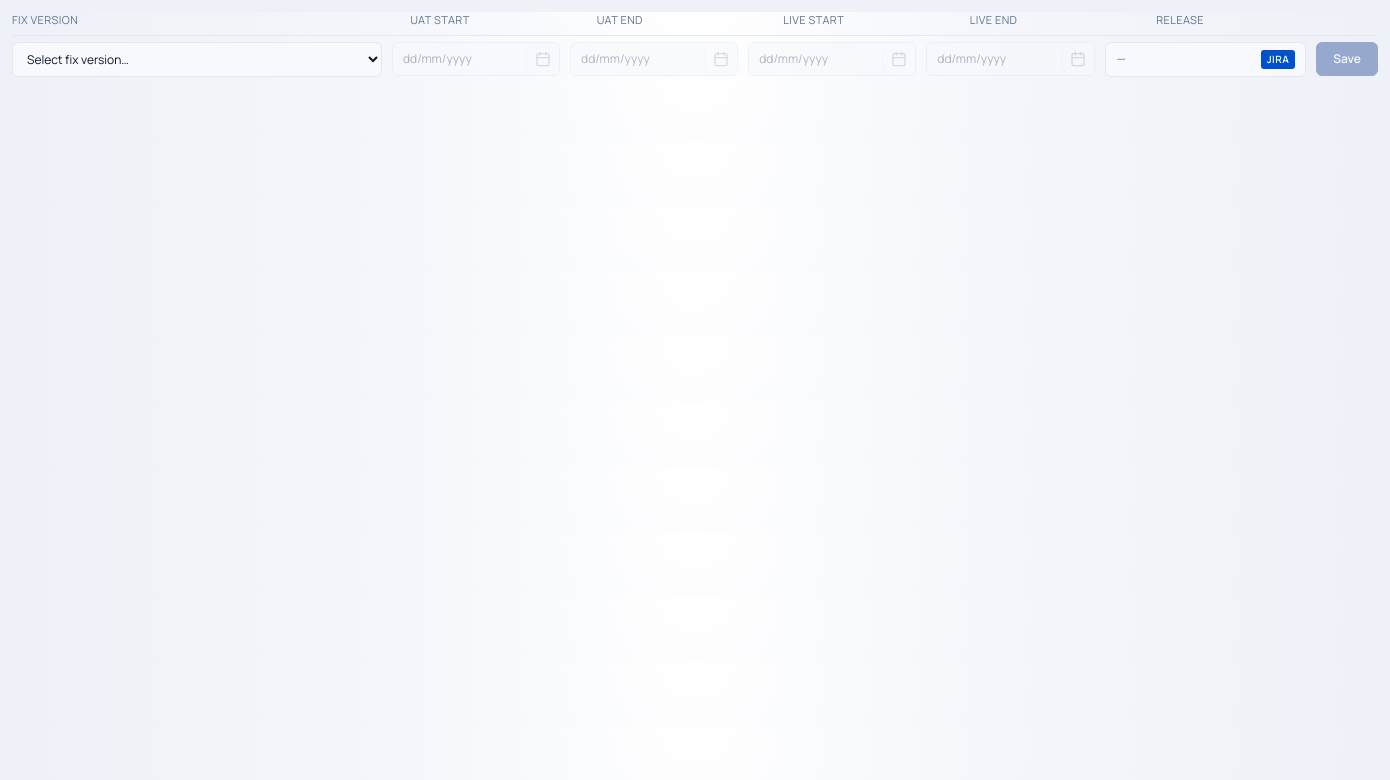
Test: FixVersionPicker › blocks Save and shows an error when Live start is after Live end
The image size is (1390, 780).
Select "Release Two" in the dropdown named "Fix version" at (197, 59), box [12,42,382,76]
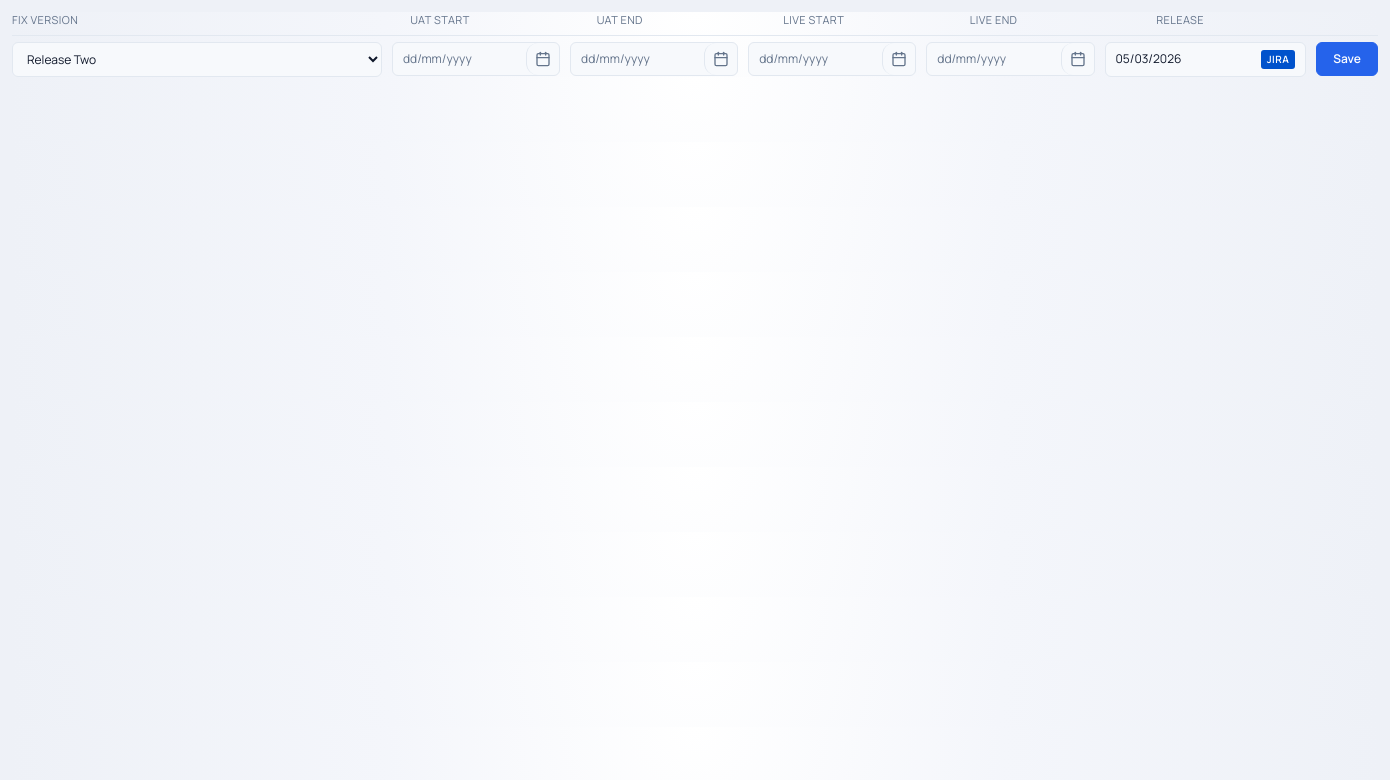
Type "20/03/2026" into the field named "Live start" at (816, 59), box [749,43,882,75]
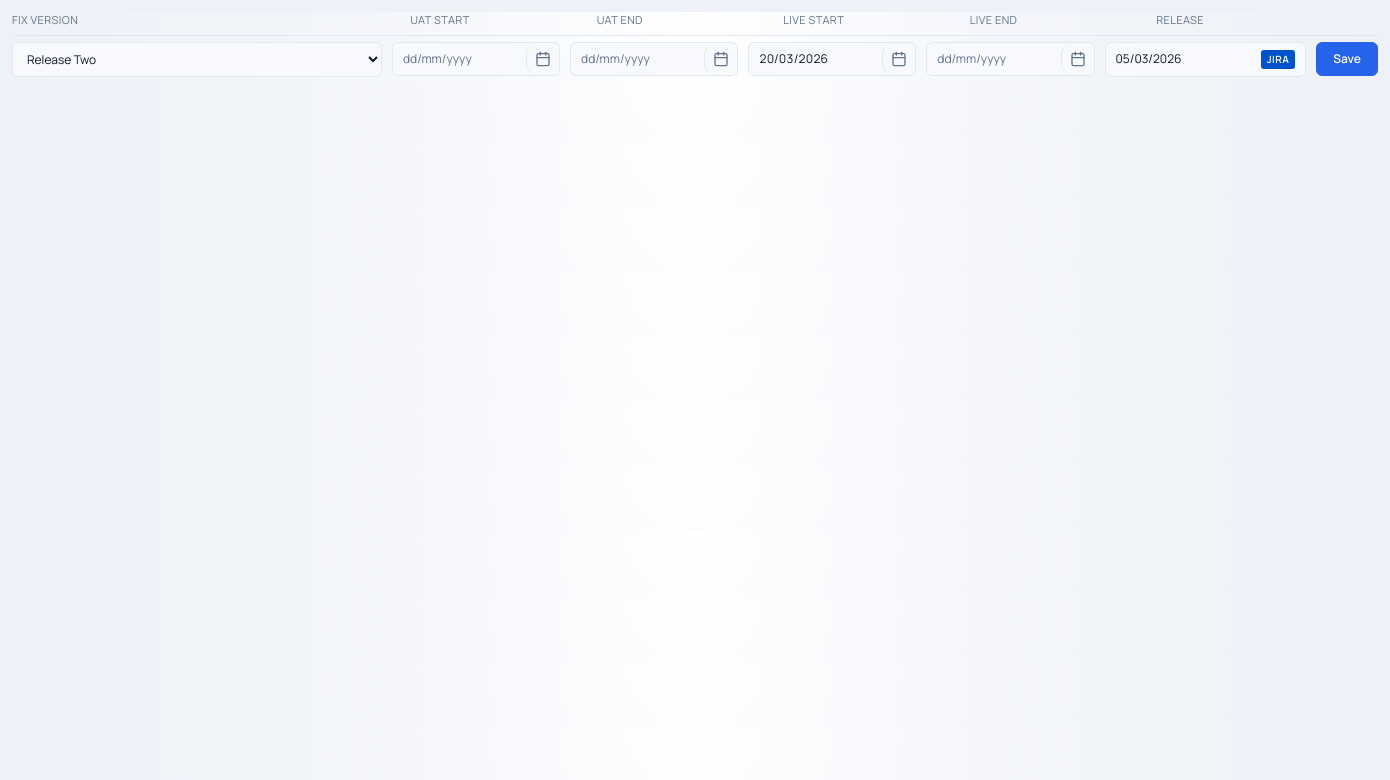
Type "10/03/2026" into the field named "Live end" at (994, 59), box [927,43,1061,75]
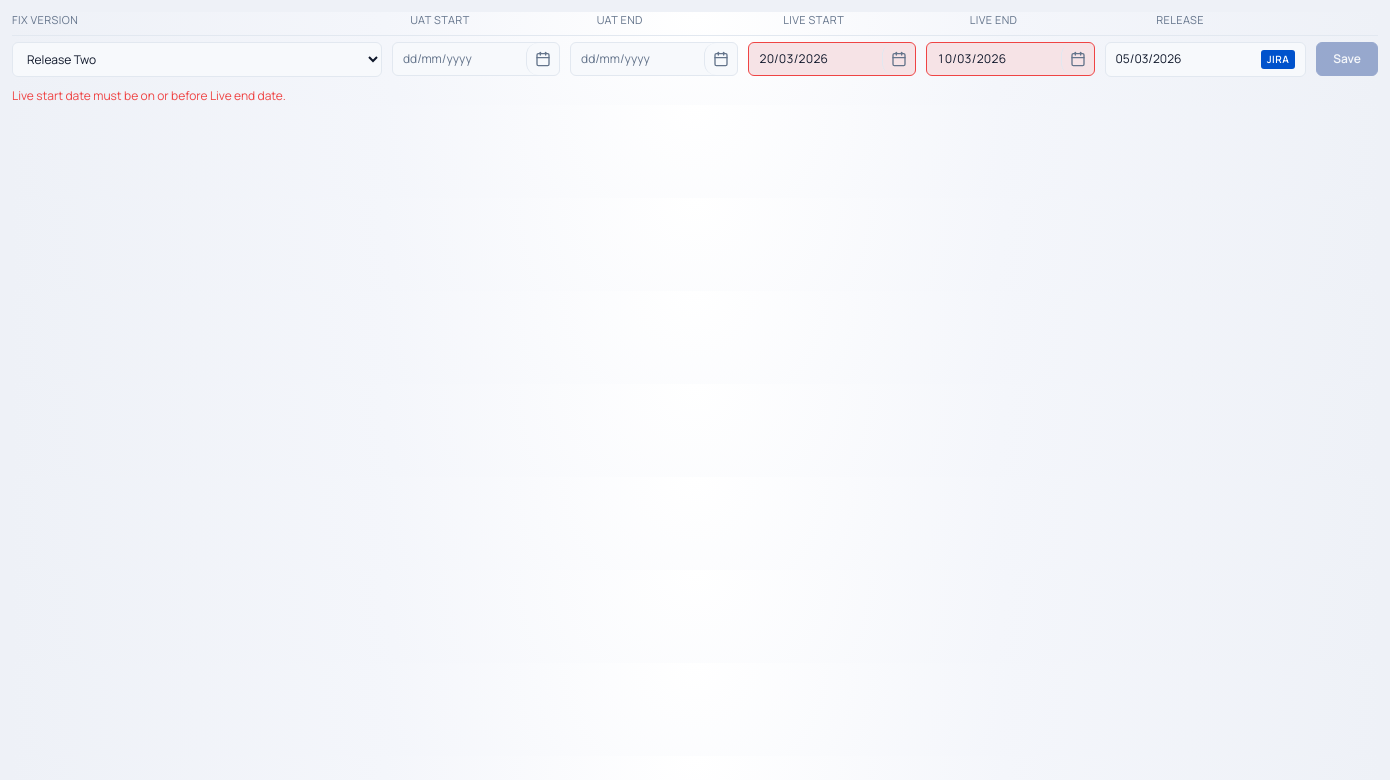
Expected: the message shows "Live start", [12,86,286,104]
Expected: the button "Save" is disabled, [1316,42,1378,76]
